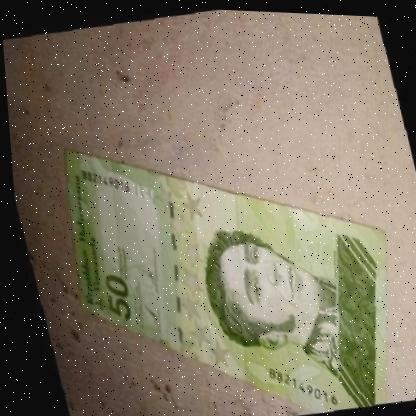vef_front: (38, 97, 416, 416)
